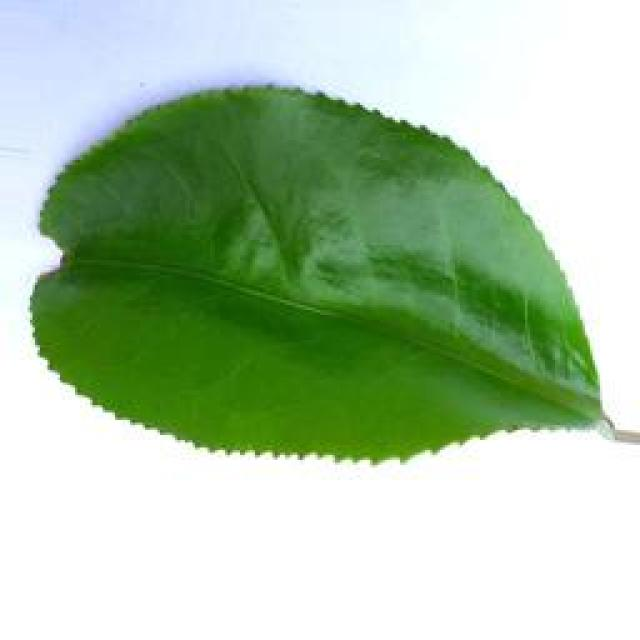Healthy: (16, 91, 618, 466)
